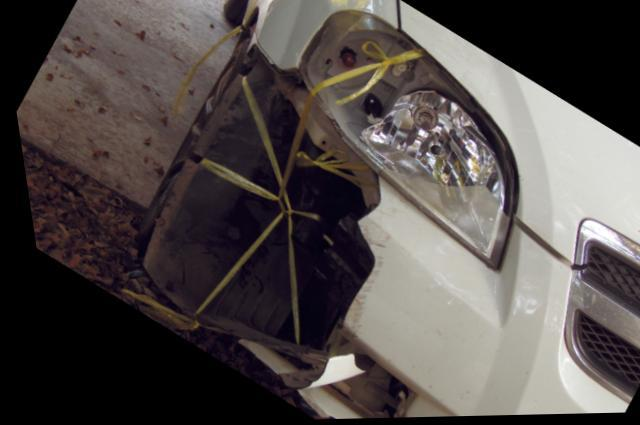lamp broken: (298, 13, 513, 271)
no part: (129, 50, 376, 396)
